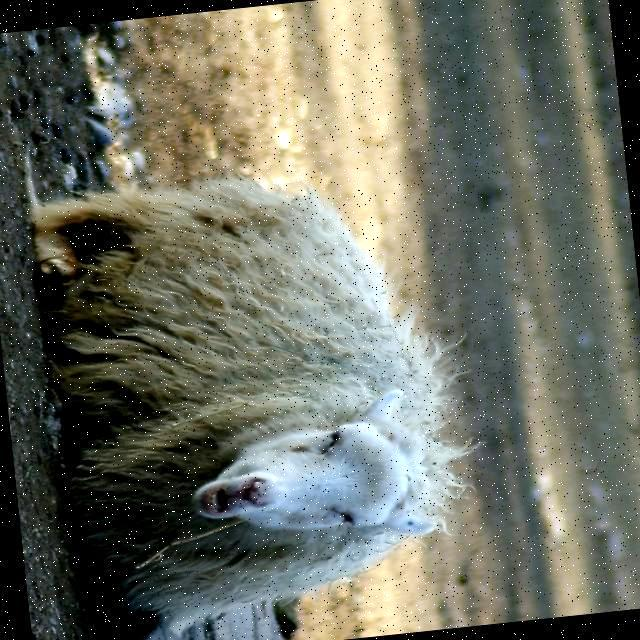sheep: (30, 168, 466, 640)
